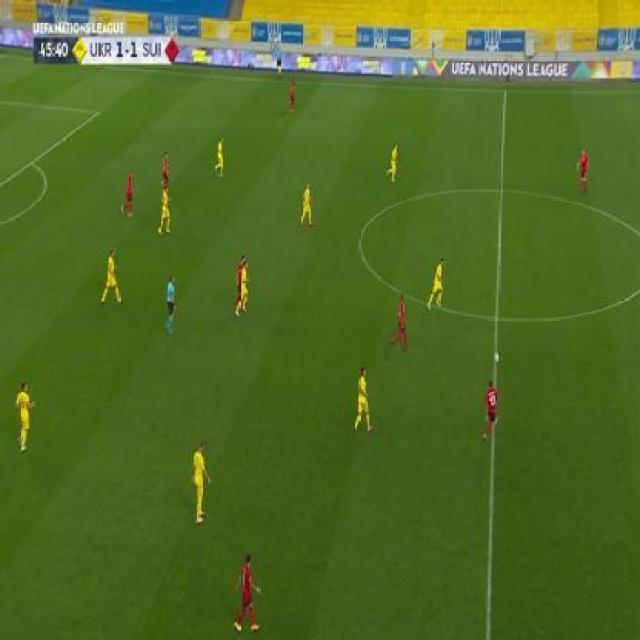ball: (494, 351, 499, 362)
player: (232, 550, 263, 632), (190, 442, 213, 524), (12, 379, 37, 453), (352, 367, 374, 436), (100, 249, 123, 306), (388, 292, 410, 351), (481, 380, 500, 443), (425, 256, 447, 310), (233, 255, 250, 318), (156, 185, 173, 236), (297, 180, 314, 228), (164, 274, 177, 334), (575, 146, 591, 194), (119, 169, 135, 217), (385, 141, 401, 181), (212, 133, 226, 178), (158, 150, 171, 186), (272, 40, 283, 76), (286, 77, 297, 113)
